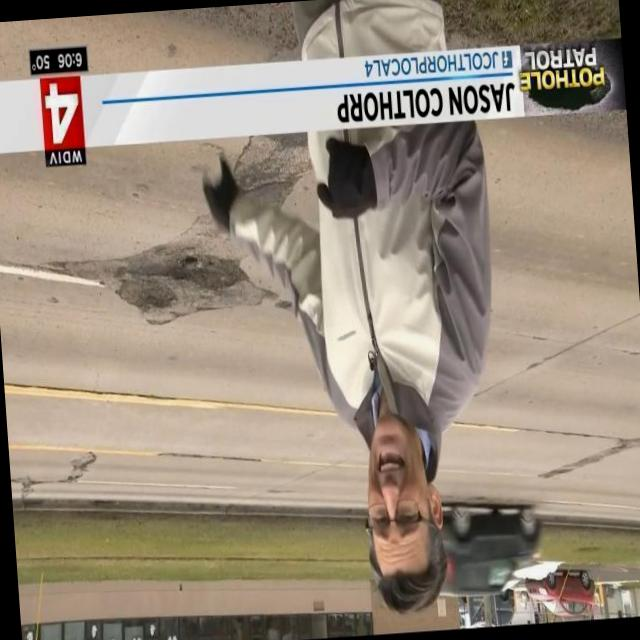Pathole: (62, 229, 264, 320)
